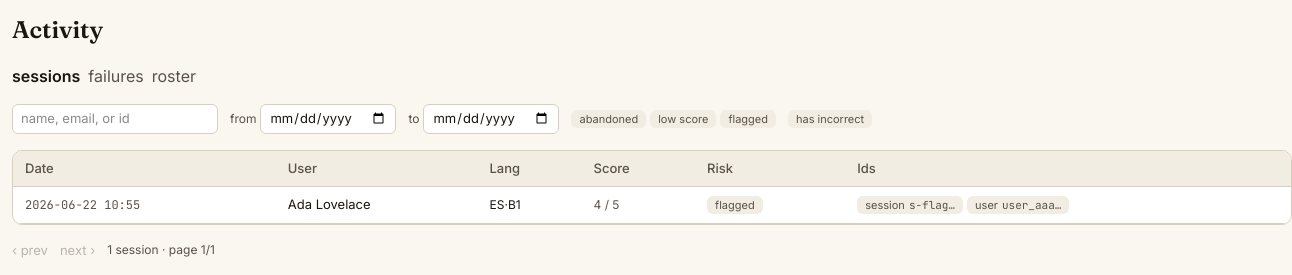
Test: ActivityPage — Roster tab › lists users with drill counts
The image size is (1292, 275).
Click the button "roster".
click(174, 76)  # box top-left (152, 64), bottom-right (196, 88)
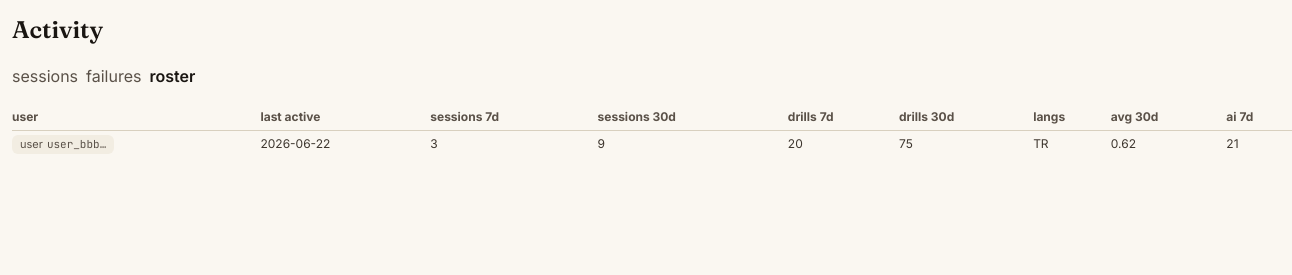
Expected: the text "75" is shown, top-left (899, 130), bottom-right (1033, 158)
